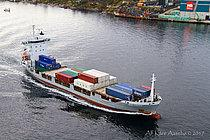Ship: (22, 25, 165, 125)
